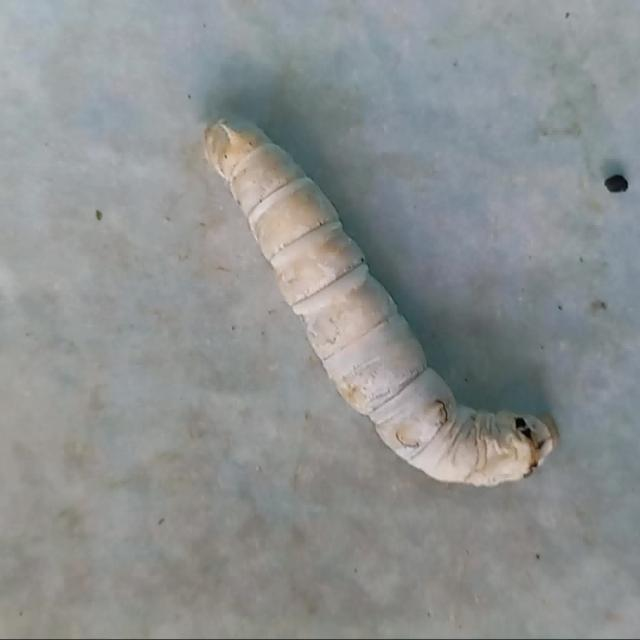Grasserie: (174, 90, 596, 524)
